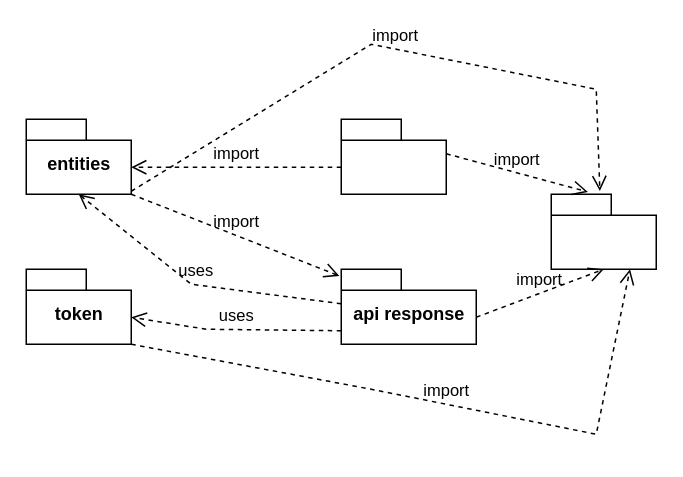
Image size: 683x477. Some labels were removed from this diagram. The centre of each missing label's shape, as x and y in pixels:
"main" goes at (603,231).
"view" goes at (393,156).
